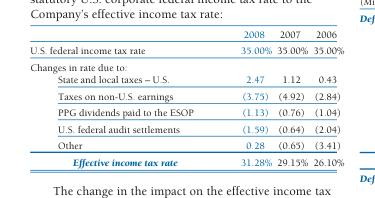table: (29, 28, 343, 167)
table column: (29, 28, 216, 167), (216, 28, 273, 167), (273, 28, 309, 167), (309, 28, 343, 167)
table column header: (29, 28, 343, 42)
table projected row header: (29, 58, 343, 73)
table row: (29, 87, 343, 104), (29, 136, 343, 153), (29, 42, 343, 58), (29, 104, 343, 120), (29, 120, 343, 136), (29, 58, 343, 73), (29, 28, 343, 42), (29, 73, 343, 87), (29, 153, 343, 167)
